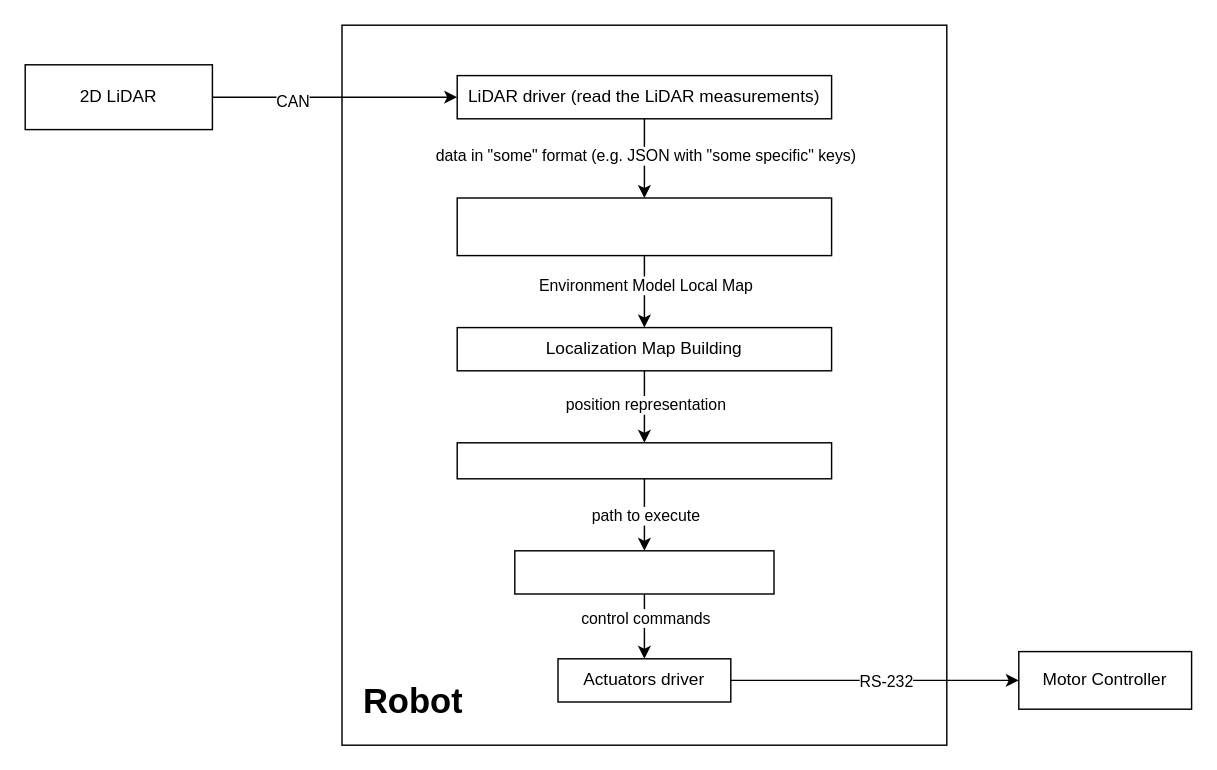
The diagram is 1217 pixels wide and 770 high, and some of its shapes have lost their labels. The box of each missing label's shape, as (x1, y1, x2, y2) in pixels:
Information Extraction and Interpretation (Perception): (456, 197, 832, 256)
Path Execution: (513, 549, 774, 594)
Path Planning: (456, 441, 832, 479)
